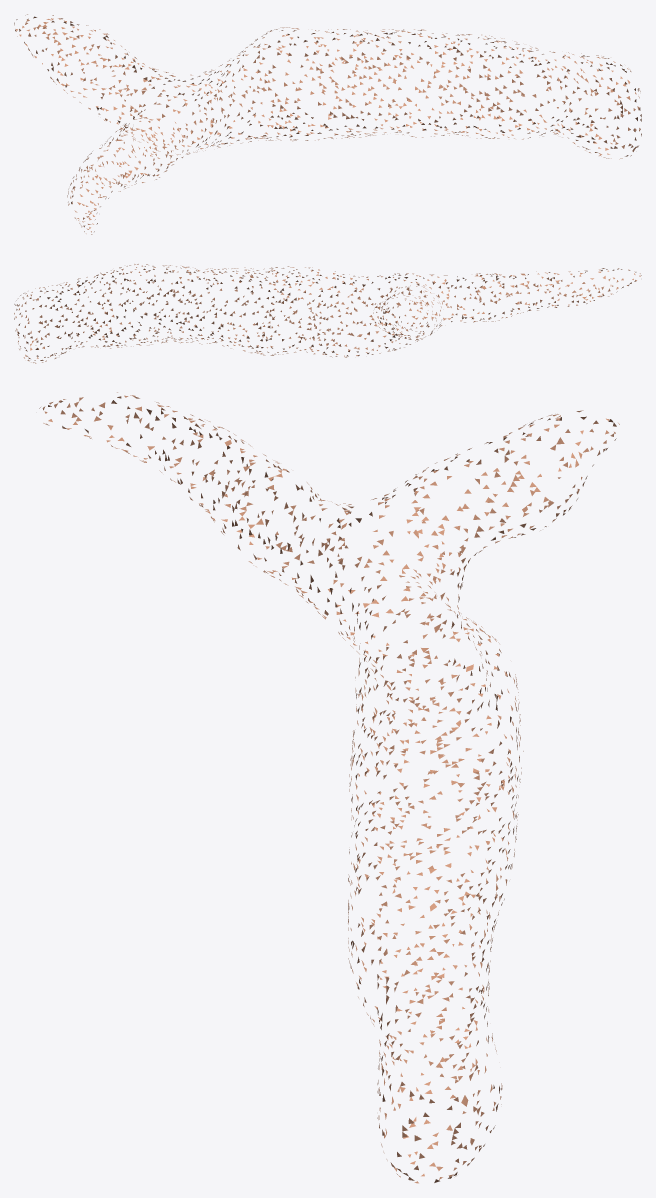
Rendered from morph_004.glb.
3 renders of one model, top to bottom at view 1: azimuth 30°, elevation 25°; view 2: azimuth 150°, elevation 25°; view 3: azimuth 270°, elevation 25°, orthographic. The views are drawn at different scales.
Bounding box in the file's own units: 126 × 41.79 × 60.39.
